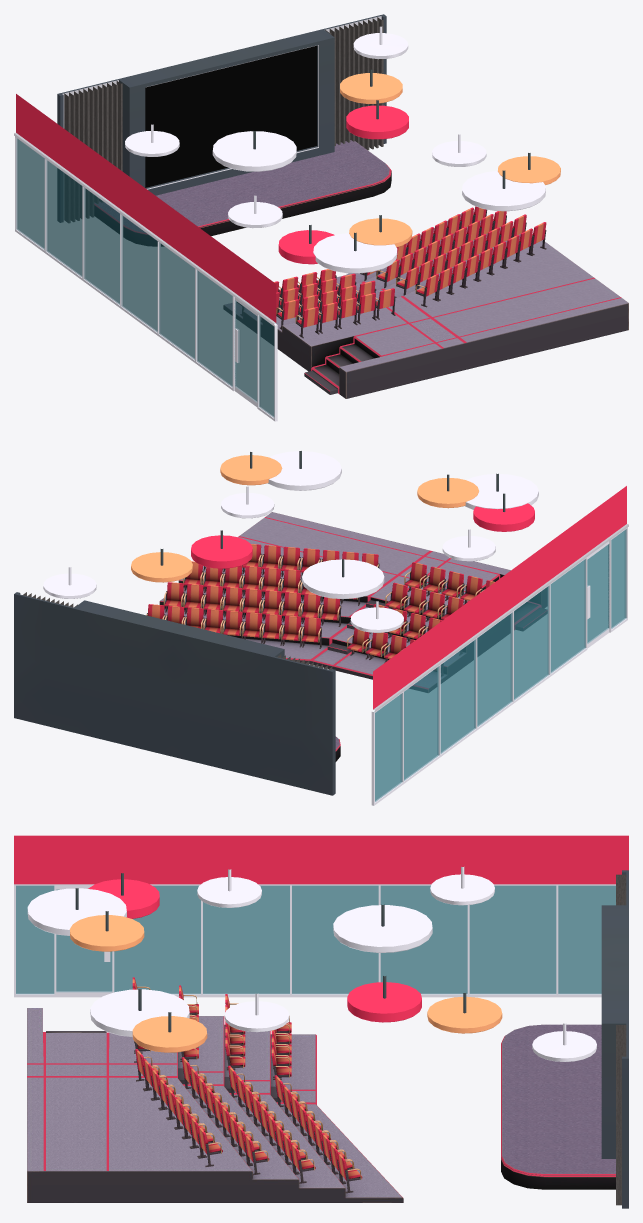
The model's file is TeachingCommunityInteriorTeachingRoom01.glb.
3 views of the same model, one above another, from view 1: azimuth 30°, elevation 25°; view 2: azimuth 150°, elevation 25°; view 3: azimuth 270°, elevation 25° (orthographic). The views are drawn at different scales.
Parts seen in each view (by area): view 1: TCV_TeachingRoomScreen, TCV_ExampleTeachingRoomChairsStage1, TCV_TeachingRoomGlass, TCV_TeachingRoomWindowFrames, TCV_TeachingRoomRoofDetail, TCV_ExampleTeachingRoomStage1.001, TCV_TeachingRoom.001, TCV_TeachingRoomDoor, TCV_ExampleTeachingRoomStage1; view 2: TCV_TeachingRoomScreen, TCV_TeachingRoomGlass, TCV_TeachingRoomWindowFrames, TCV_TeachingRoomRoofDetail, TCV_ExampleTeachingRoomChairsStage1, TCV_TeachingRoom.001, TCV_TeachingRoomDoor, TCV_TeachingRoomSeats_20.001, TCV_TeachingRoomSeats_22.001, TCV_TeachingRoomSeats_21.001, TCV_TeachingRoomSeats_23.001; view 3: TCV_TeachingRoomGlass, TCV_ExampleTeachingRoomChairsStage1, TCV_TeachingRoomWindowFrames, TCV_TeachingRoomRoofDetail, TCV_ExampleTeachingRoomStage1.001, TCV_TeachingRoomScreen, TCV_TeachingRoom.001, TCV_TeachingRoomDoor, TCV_ExampleTeachingRoomStage1.
Boxes of the visible parts, left/top/right/bottom form: TCV_TeachingRoomScreen: left=57, top=14, right=386, bottom=222; TCV_ExampleTeachingRoomChairsStage1: left=223, top=212, right=628, bottom=398; TCV_TeachingRoomGlass: left=16, top=138, right=274, bottom=417; TCV_TeachingRoomWindowFrames: left=14, top=94, right=277, bottom=421; TCV_TeachingRoomRoofDetail: left=212, top=69, right=560, bottom=273; TCV_ExampleTeachingRoomStage1.001: left=94, top=140, right=390, bottom=245; TCV_TeachingRoom.001: left=125, top=26, right=486, bottom=228; TCV_TeachingRoomDoor: left=234, top=297, right=257, bottom=406; TCV_ExampleTeachingRoomStage1: left=135, top=165, right=391, bottom=246; TCV_TeachingRoomScreen: left=14, top=592, right=335, bottom=795; TCV_TeachingRoomGlass: left=374, top=529, right=626, bottom=801; TCV_TeachingRoomWindowFrames: left=371, top=486, right=628, bottom=805; TCV_TeachingRoomRoofDetail: left=131, top=451, right=538, bottom=599; TCV_ExampleTeachingRoomChairsStage1: left=159, top=512, right=547, bottom=692; TCV_TeachingRoom.001: left=43, top=486, right=495, bottom=632; TCV_TeachingRoomDoor: left=587, top=541, right=609, bottom=648; TCV_TeachingRoomSeats_20.001: left=301, top=617, right=321, bottom=648; TCV_TeachingRoomSeats_22.001: left=261, top=614, right=282, bottom=645; TCV_TeachingRoomSeats_21.001: left=281, top=615, right=302, bottom=647; TCV_TeachingRoomSeats_23.001: left=242, top=612, right=263, bottom=643; TCV_TeachingRoomGlass: left=16, top=885, right=615, bottom=994; TCV_ExampleTeachingRoomChairsStage1: left=27, top=1008, right=403, bottom=1202; TCV_TeachingRoomWindowFrames: left=14, top=835, right=628, bottom=997; TCV_TeachingRoomRoofDetail: left=27, top=873, right=502, bottom=1052; TCV_ExampleTeachingRoomStage1.001: left=501, top=1024, right=615, bottom=1175; TCV_TeachingRoomScreen: left=601, top=870, right=628, bottom=1208; TCV_TeachingRoom.001: left=197, top=866, right=596, bottom=1061; TCV_TeachingRoomDoor: left=56, top=884, right=112, bottom=997; TCV_ExampleTeachingRoomStage1: left=501, top=1158, right=615, bottom=1189.
Size of what is drawn, in the model's own units: 15.56 by 5.78 by 18.96.
7 materials, 6 textured.
